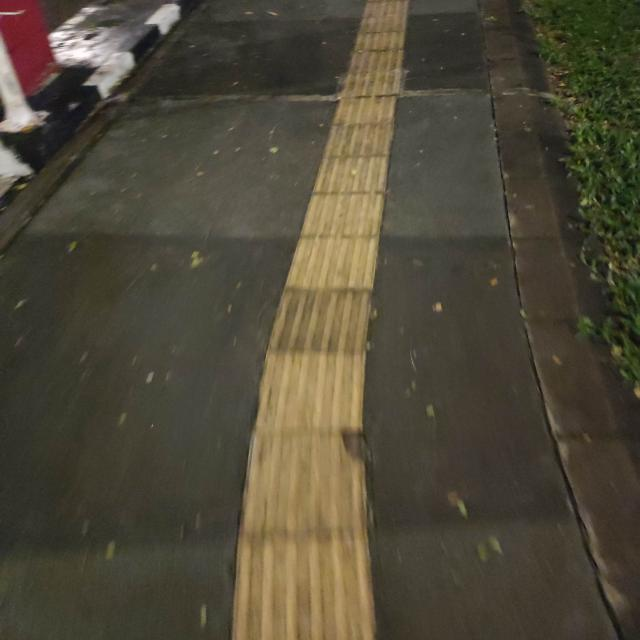lurus: (241, 66, 391, 640)
